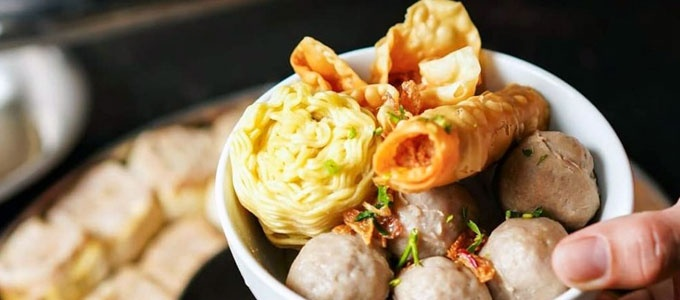bakso_malang: (231, 1, 600, 300)
